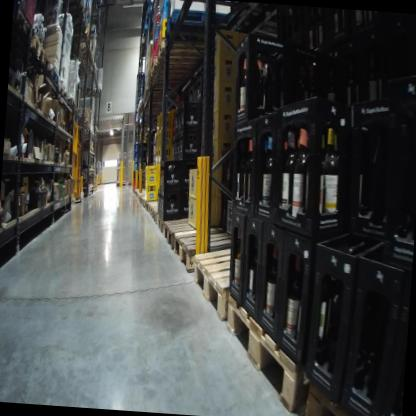pallet: (224, 261, 336, 399), (190, 238, 280, 322), (171, 223, 240, 275), (164, 8, 236, 44), (158, 216, 214, 261), (153, 36, 230, 67), (146, 61, 204, 84), (55, 14, 90, 50), (53, 0, 91, 26), (13, 3, 37, 41), (27, 55, 55, 82), (31, 29, 47, 68), (74, 61, 97, 79), (48, 66, 61, 92), (53, 111, 68, 132), (156, 213, 168, 238), (56, 78, 69, 99), (147, 199, 159, 216), (78, 111, 89, 126), (115, 181, 128, 190), (152, 208, 160, 222), (68, 97, 76, 110), (144, 200, 151, 213)
